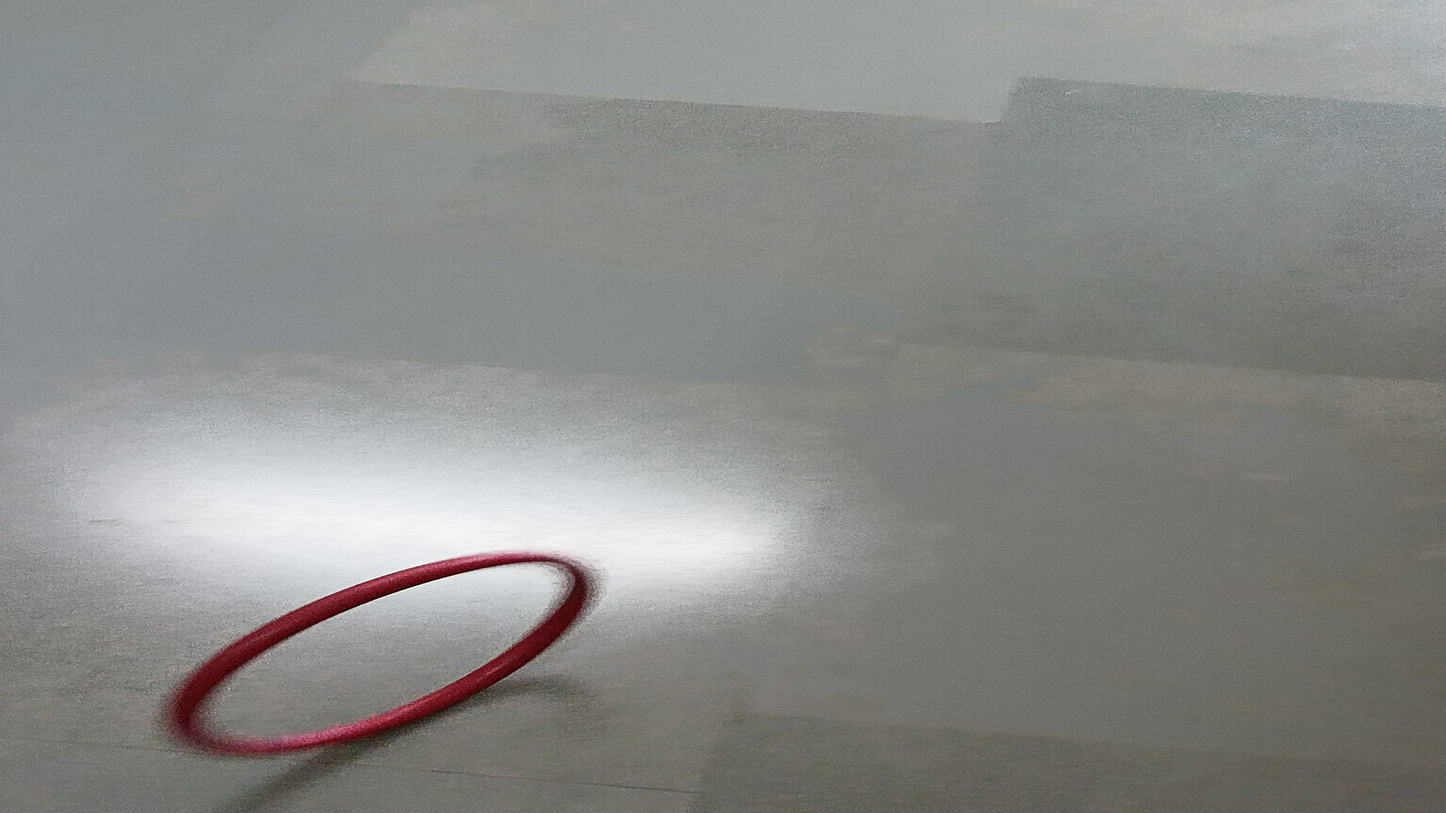Red ring: (164, 553, 594, 757)
